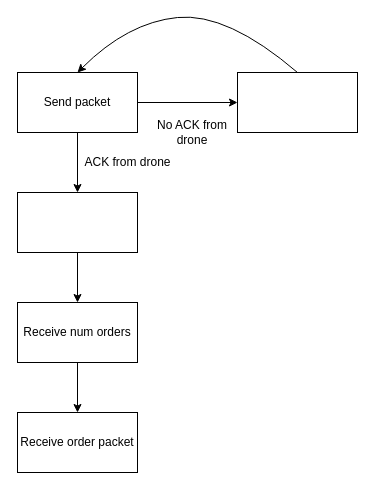
This 375x491 diagram has some shape labels left out. The shapes that lost their labels are listed below. From the top down, each one's centre as x and y in pixels, then its label:
(297,102): Wait
(77,222): Exchange keys
